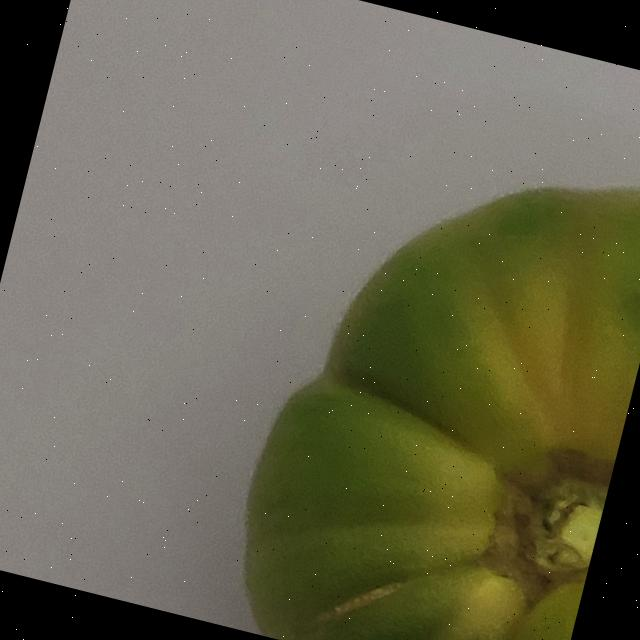tomato: (89, 24, 640, 640)
